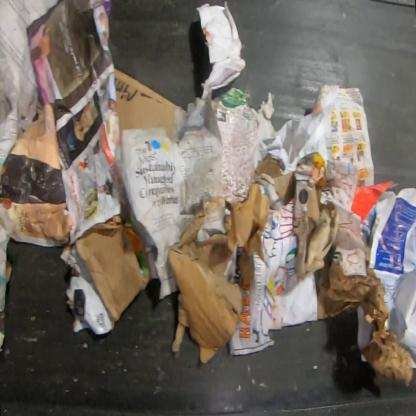cardboard: (167, 182, 272, 365), (58, 213, 154, 337), (292, 158, 340, 282), (113, 67, 189, 144), (194, 0, 248, 100), (254, 154, 295, 205)
